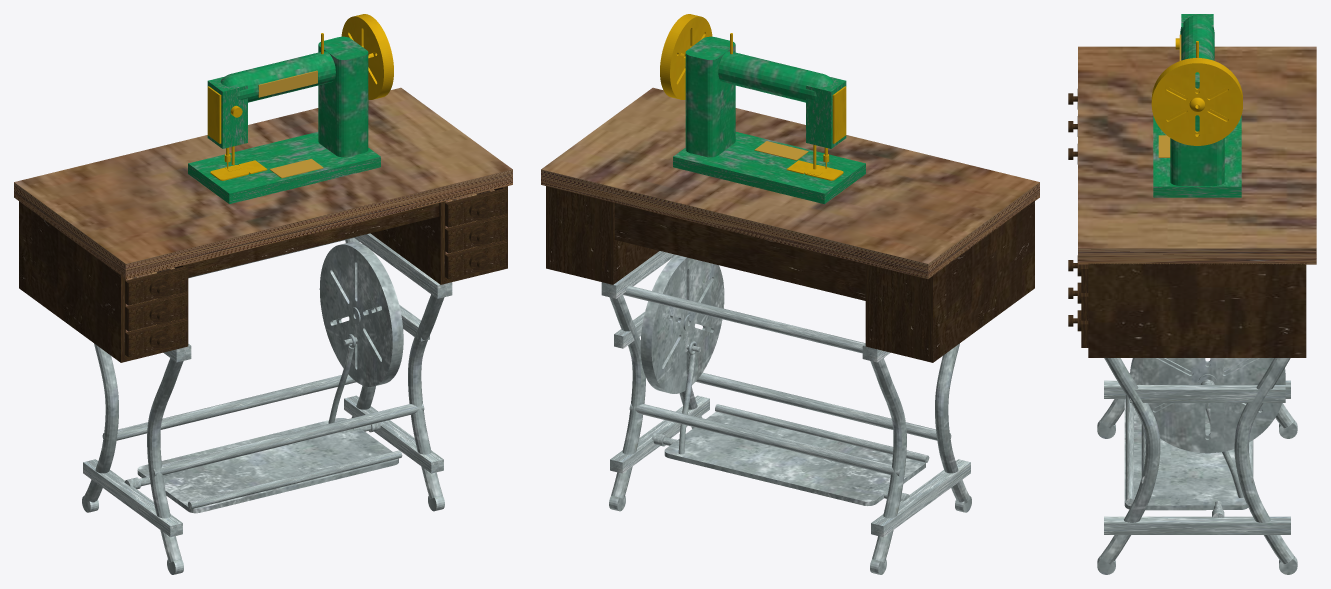
The model's file is sewing_machine__0005.glb.
3 renders of one model, left to right at view 1: azimuth 30°, elevation 25°; view 2: azimuth 150°, elevation 25°; view 3: azimuth 270°, elevation 25°, orthographic. The views are drawn at different scales.
Visible parts, largest first — view 1: chassis::tabletop, chassis::left_cabinet_wall_0, treadle_pedal::pedal_plate, band_wheel::wheel, chassis::bed, chassis::pillar, chassis::side_frame_0, chassis::front_rail, chassis::side_frame_1, chassis::lower_brace_0, chassis::right_cabinet_wall_0, chassis::arm (+15 smaller); view 2: chassis::tabletop, treadle_pedal::pedal_plate, chassis::rear_apron, chassis::left_cabinet_wall_0, band_wheel::wheel, chassis::bed, chassis::pillar, chassis::side_frame_0, chassis::right_cabinet_back, chassis::left_cabinet_back, chassis::arm, chassis::lower_brace_1 (+11 smaller); view 3: chassis::tabletop, chassis::right_cabinet_wall_1, band_wheel::wheel, chassis::side_frame_1, handwheel::wheel, treadle_pedal::pedal_plate, chassis::bottom_rail_1, chassis::bed, chassis::pillar, chassis::wheel_support_bar, chassis::arm, chassis::side_frame_0 (+3 smaller).
Boxes of the visible parts, box(x1,y1,x2,y2) form: chassis::tabletop: box(14, 87, 512, 278); chassis::left_cabinet_wall_0: box(19, 201, 125, 362); treadle_pedal::pedal_plate: box(137, 418, 398, 513); band_wheel::wheel: box(319, 242, 403, 386); chassis::bed: box(188, 132, 380, 203); chassis::pillar: box(318, 36, 368, 157); chassis::side_frame_0: box(82, 343, 183, 574); chassis::front_rail: box(188, 203, 439, 277); chassis::side_frame_1: box(345, 238, 444, 511); chassis::lower_brace_0: box(153, 403, 424, 476); chassis::right_cabinet_wall_0: box(370, 201, 445, 284); chassis::arm: box(220, 51, 335, 102); chassis::tabletop: box(541, 87, 1039, 278); treadle_pedal::pedal_plate: box(664, 412, 925, 505); chassis::rear_apron: box(614, 203, 865, 300); chassis::left_cabinet_wall_0: box(928, 200, 1034, 362); band_wheel::wheel: box(640, 255, 724, 393); chassis::bed: box(673, 132, 865, 203); chassis::pillar: box(685, 36, 735, 157); chassis::side_frame_0: box(870, 343, 971, 574); chassis::right_cabinet_back: box(549, 187, 609, 283); chassis::left_cabinet_back: box(869, 265, 929, 361); chassis::arm: box(718, 51, 833, 102); chassis::lower_brace_1: box(629, 403, 900, 476); chassis::tabletop: box(1078, 46, 1316, 264); chassis::right_cabinet_wall_1: box(1088, 263, 1306, 357); band_wheel::wheel: box(1130, 358, 1285, 453); chassis::side_frame_1: box(1097, 358, 1297, 574); handwheel::wheel: box(1151, 58, 1242, 145); treadle_pedal::pedal_plate: box(1124, 399, 1248, 510); chassis::bottom_rail_1: box(1104, 516, 1290, 534); chassis::bed: box(1153, 115, 1241, 197); chassis::pillar: box(1170, 72, 1224, 185); chassis::wheel_support_bar: box(1130, 385, 1285, 402); chassis::arm: box(1180, 15, 1214, 60); chassis::side_frame_0: box(1097, 373, 1297, 438).
Size of the model in its own units: 0.92 by 1.06 by 0.479.
7 materials, 5 textured.
